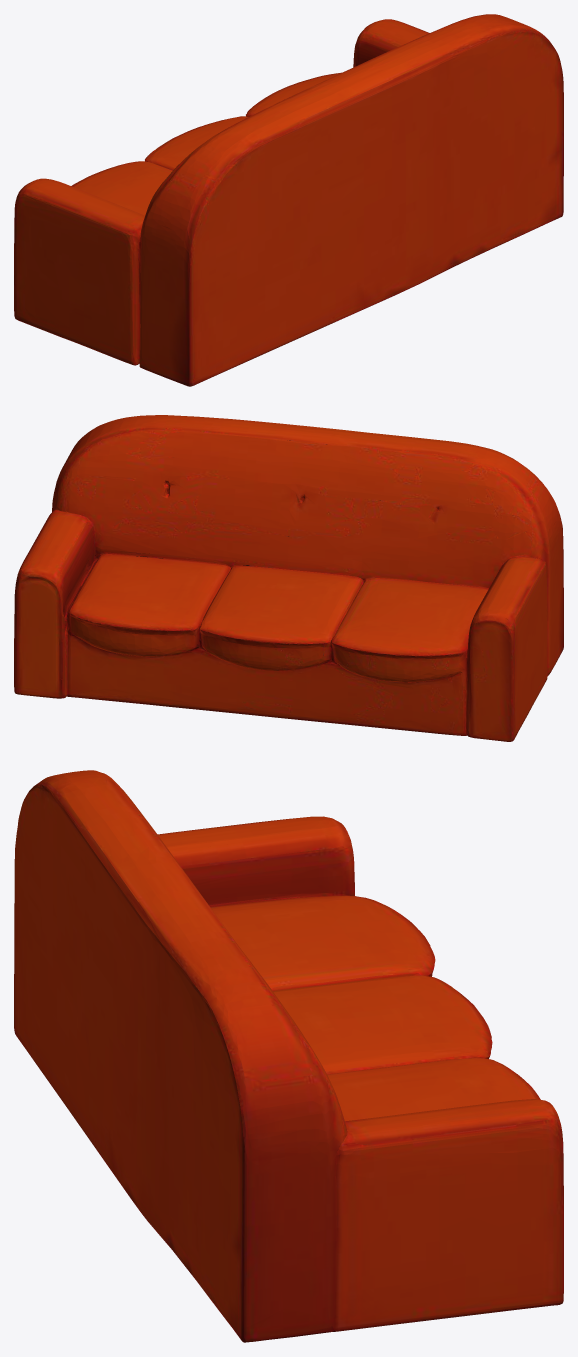
The model's file is orange_sofa_000.glb.
The picture shows the model from 3 angles, top to bottom: view 1: azimuth 30°, elevation 25°; view 2: azimuth 150°, elevation 25°; view 3: azimuth 270°, elevation 25°; orthographic projection. The views are drawn at different scales.
Parts seen in each view (by area): view 1: phase2_final_orange_sofa_000.obj; view 2: phase2_final_orange_sofa_000.obj; view 3: phase2_final_orange_sofa_000.obj.
Boxes of the visible parts, bbox=[...] form: phase2_final_orange_sofa_000.obj: bbox=[14, 14, 563, 386]; phase2_final_orange_sofa_000.obj: bbox=[14, 415, 563, 741]; phase2_final_orange_sofa_000.obj: bbox=[14, 770, 563, 1342].
Bounding box in the file's own units: 1.47 × 0.614 × 0.9698.
Materials: 1 (1 with a texture image).
